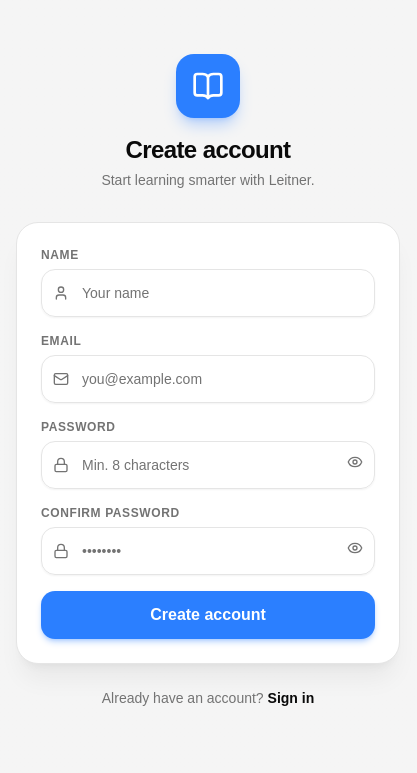
Scenario: SignUpPage › name validation › shows error when name is empty
This screenshot has width=417, height=773.
Click the button "Create account": (208, 615) [41,591,375,639]
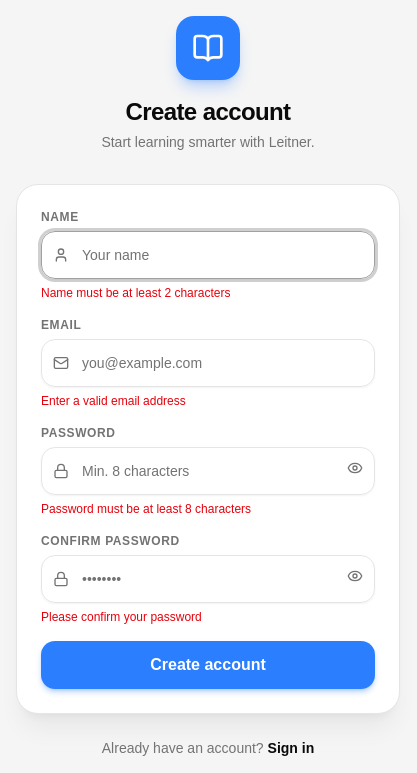
Check: the text "Name must be at least 2 characters" is shown, box [41,286,230,300]
